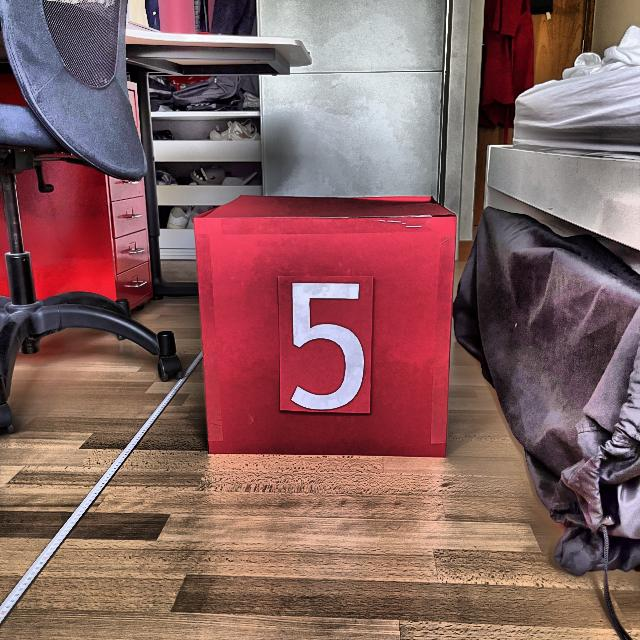five: (286, 279, 369, 414)
red box: (193, 193, 453, 462)
